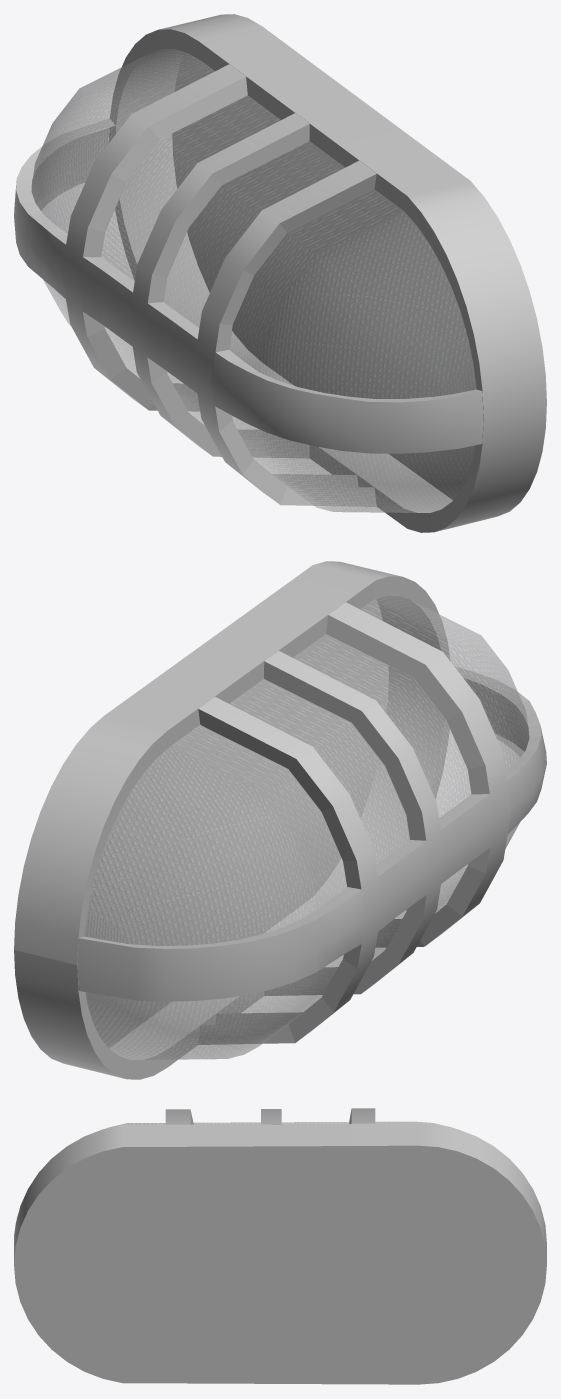
The model's file is Emergency_Light.fbx.
3 renders of one model, top to bottom at view 1: azimuth 30°, elevation 25°; view 2: azimuth 150°, elevation 25°; view 3: azimuth 270°, elevation 25°, orthographic. The views are drawn at different scales.
Parts seen in each view (by area): view 1: pSphere3, polySurface2; view 2: pSphere3, polySurface2; view 3: pSphere3, polySurface2.
Boxes of the visible parts, x1,y1,x2,y2 form: pSphere3: (31,14,546,532); polySurface2: (14,64,483,506); pSphere3: (14,561,529,1079); polySurface2: (77,602,546,1044); pSphere3: (14,1121,546,1384); polySurface2: (14,1108,375,1241).
Size of the model in its own units: 1.53 by 2.13 by 4.29.
